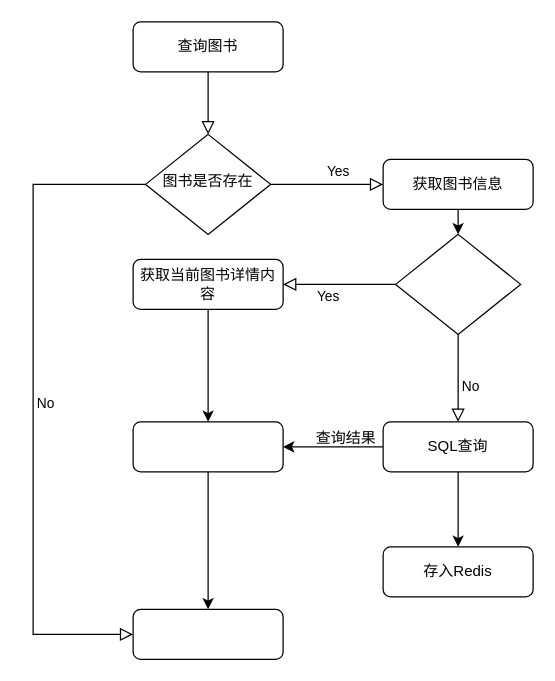
Some shapes in this 555 by 681 pixel diagram are drawn without their labels. The centre of each missing label's shape, as x and y in pixels:
封装查询结果: point 207,446
缓存是否存在: point 457,283
返回结果: point 207,633
